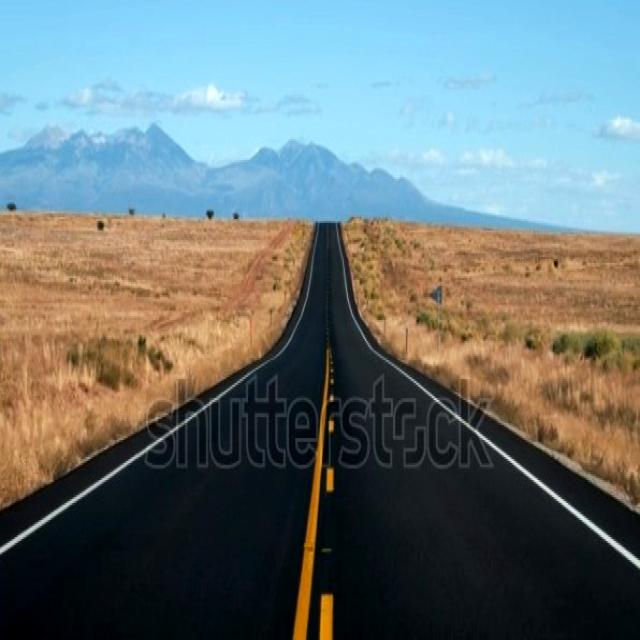lane: (293, 345, 329, 638), (319, 594, 333, 638)
road: (0, 223, 639, 636)
